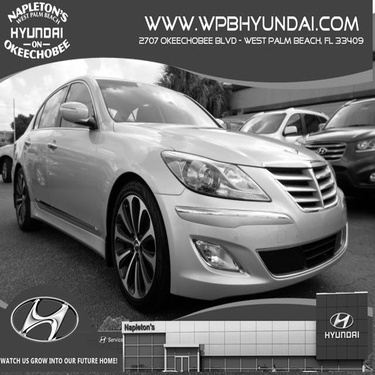car: (7, 69, 357, 303), (298, 81, 373, 215), (225, 90, 335, 173), (1, 132, 31, 187)
